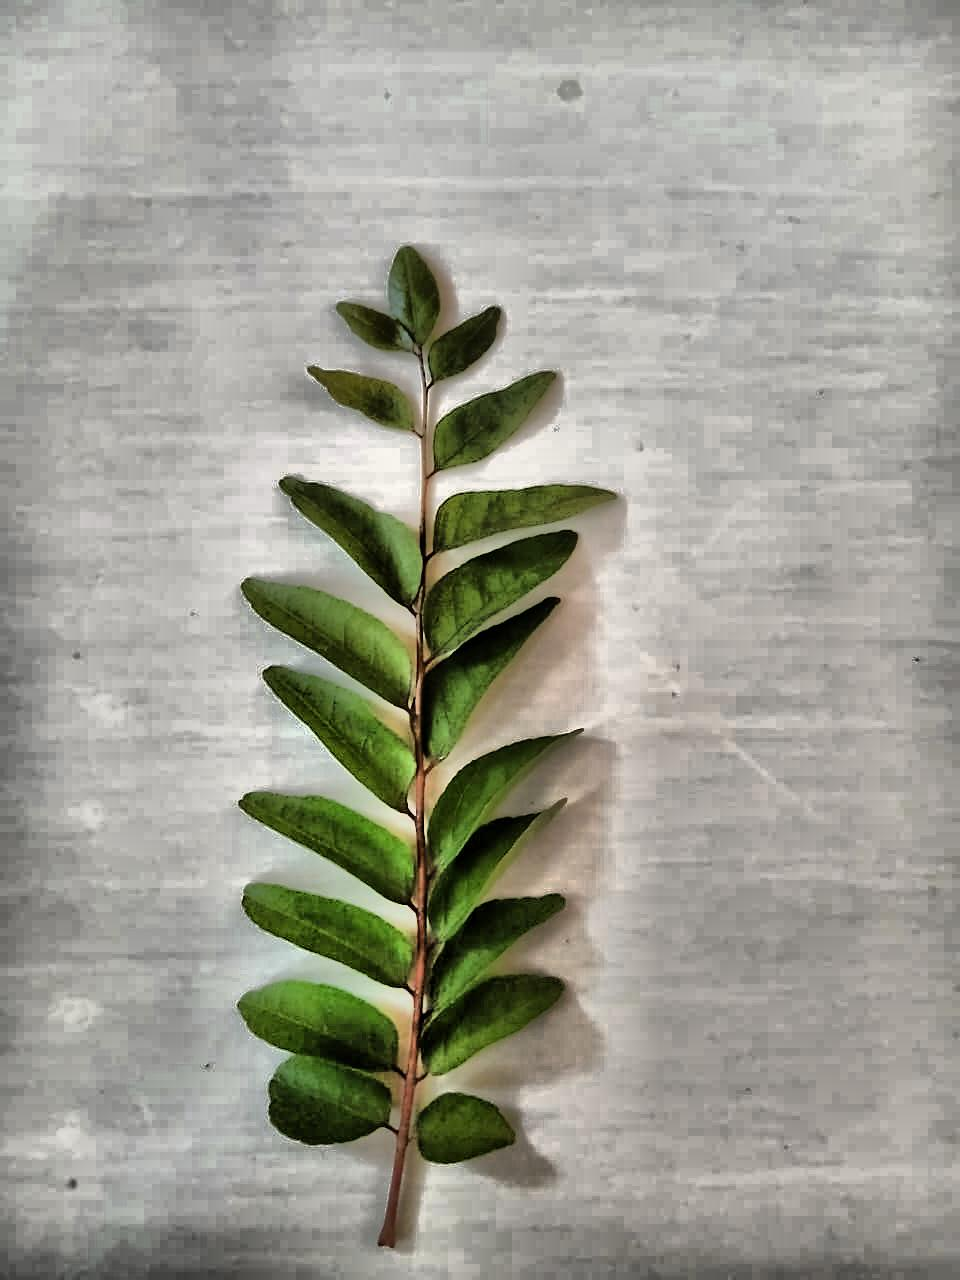daun kari: (240, 246, 615, 1247)
